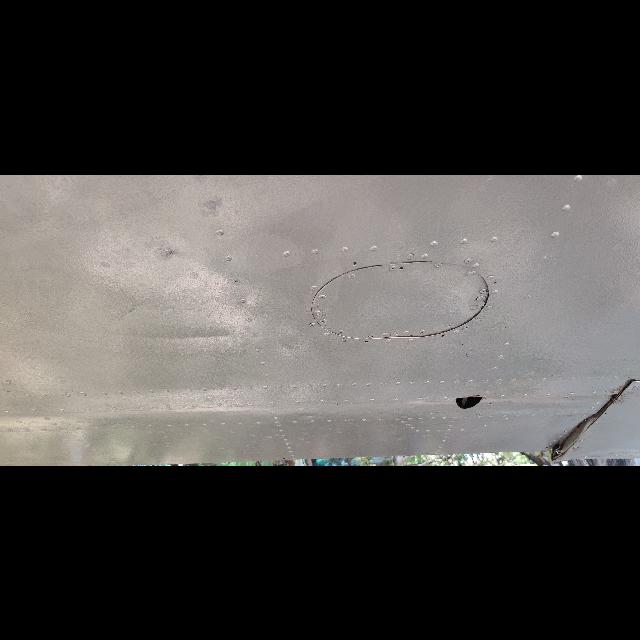dent: (147, 306, 229, 379)
